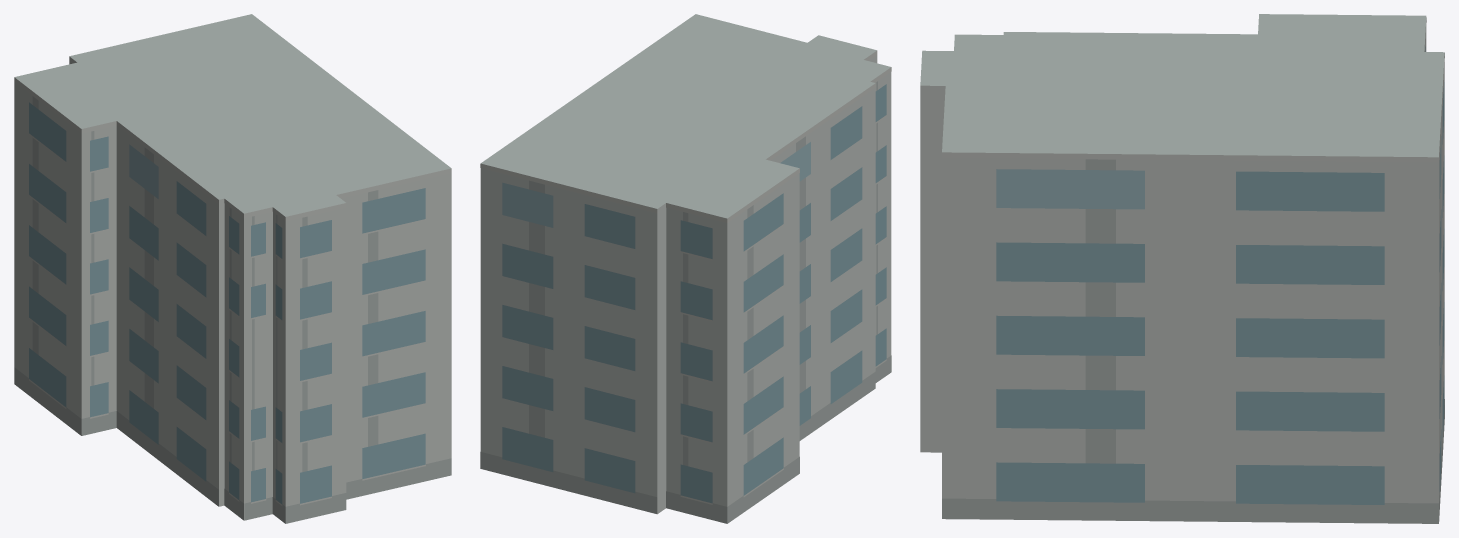
Rendered from survey-upis-32582923.glb.
3 views of the same model, side by side, from view 1: azimuth 30°, elevation 25°; view 2: azimuth 150°, elevation 25°; view 3: azimuth 270°, elevation 25° (orthographic). The views are drawn at different scales.
Parts seen in each view (by area): view 1: survey-upis-32582923.tmp; view 2: survey-upis-32582923.tmp; view 3: survey-upis-32582923.tmp.
Part boxes in pixels (box(x1,y1,x2,y2)): survey-upis-32582923.tmp: box(14, 14, 451, 523); survey-upis-32582923.tmp: box(480, 14, 891, 523); survey-upis-32582923.tmp: box(920, 14, 1444, 523).
Bounding box in the file's own units: 13.41 × 16 × 20.75.
